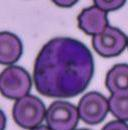E: (32, 37, 94, 97)
